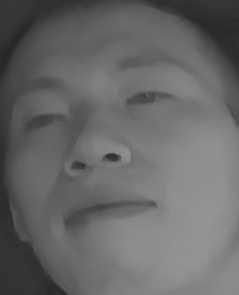eye: (17, 98, 68, 140), (123, 79, 173, 113)
mouth: (60, 184, 159, 235)
